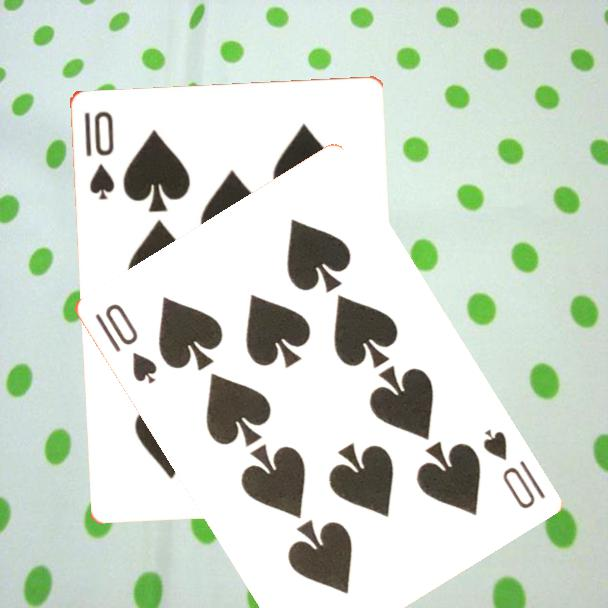s10: (90, 299, 160, 387), (478, 425, 548, 512), (80, 107, 117, 202)
